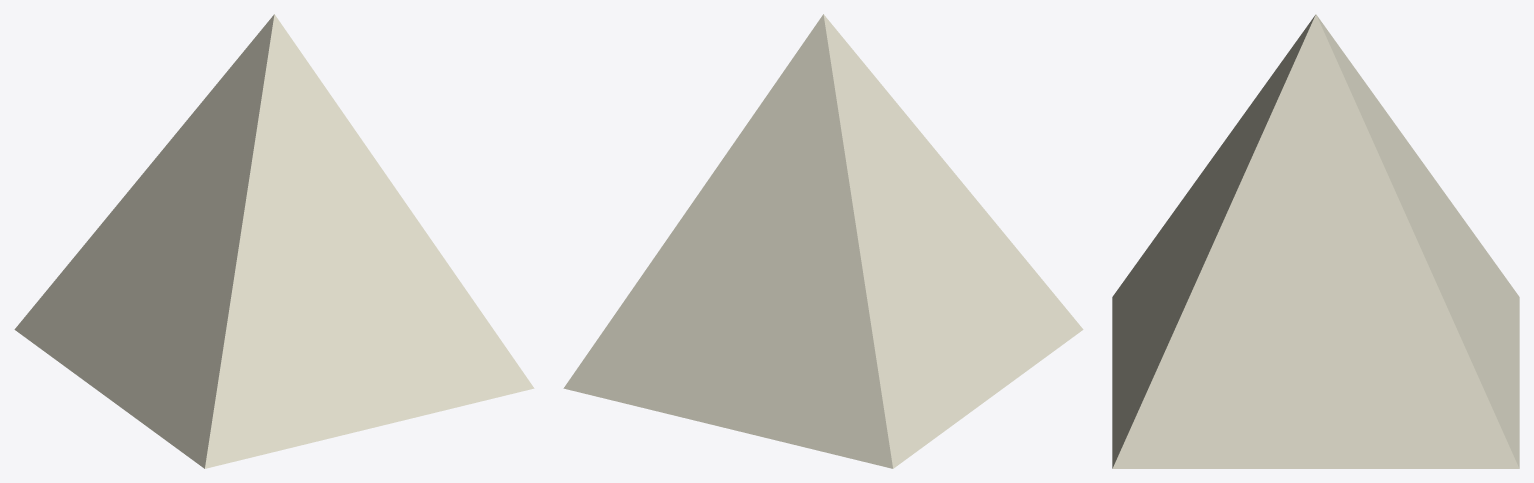
Rendered from Shape_QuadPyramid.glb.
3 views of the same model, side by side, from view 1: azimuth 30°, elevation 25°; view 2: azimuth 150°, elevation 25°; view 3: azimuth 270°, elevation 25° (orthographic). The views are drawn at different scales.
Parts seen in each view (by area): view 1: Shape_QuadPyramid; view 2: Shape_QuadPyramid; view 3: Shape_QuadPyramid.
Part boxes in pixels (x1=…): Shape_QuadPyramid: x1=14, y1=14, x2=534, y2=468; Shape_QuadPyramid: x1=563, y1=14, x2=1083, y2=468; Shape_QuadPyramid: x1=1112, y1=14, x2=1519, y2=468.
Size of the model in its own units: 1 by 1 by 1.
